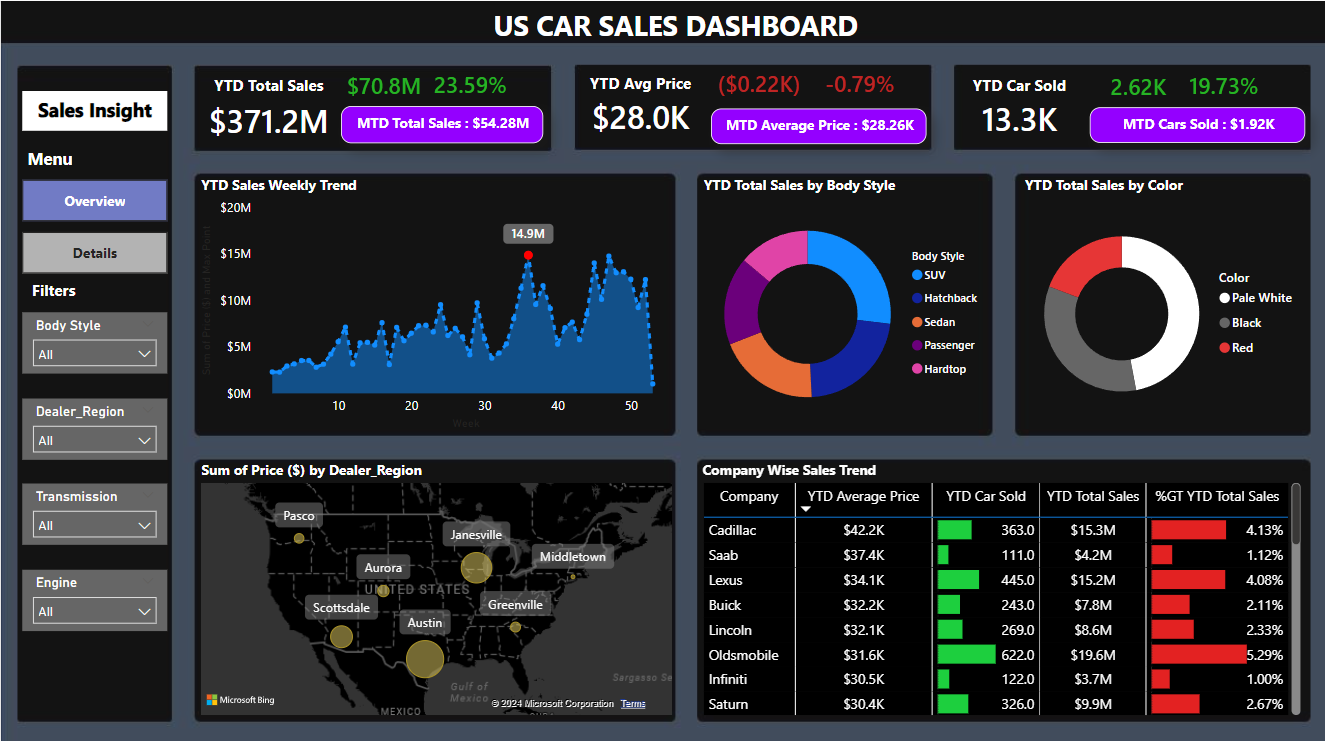

The page's visual inventory and layout, read from the dashboard file:
{"tool":"powerbi","page":{"name":"Overview","canvas":[1280,720],"ordinal":0},"visuals":[{"type":"card","title":"YTD Total Sales","fields":{"Values":["car_data.YTD Total Sales"]},"box":[188.1,71.4,140.5,70.2],"z":0},{"type":"card","fields":{"Values":["car_data.Sales Difference"]},"box":[328.6,69,83.3,29.8],"z":1000},{"type":"card","fields":{"Values":["car_data.YOY Sales Growth"]},"box":[411.9,67.9,83.3,29.8],"z":2000},{"type":"card","fields":{"Values":["car_data.MTD KPI"]},"box":[328.6,101.2,195.2,35.7],"z":3000},{"type":"card","title":"YTD Avg Price","fields":{"Values":["car_data.YTD Average Price"]},"box":[548.8,69,136.9,67.9],"z":4000},{"type":"card","fields":{"Values":["car_data.Average Price Difference"]},"box":[685.7,66.7,92.9,31],"z":5000},{"type":"card","fields":{"Values":["car_data.MTD Average Price KPI"]},"box":[685.7,103.6,208.3,34.5],"z":6000},{"type":"card","fields":{"Values":["car_data.YOY Average Price Growth"]},"box":[790.5,66.7,77.4,29.8],"z":7000},{"type":"card","title":"YTD Car Sold","fields":{"Values":["car_data.YTD Car Sold"]},"box":[914.3,71.4,136.9,66.7],"z":8000},{"type":"card","fields":{"Values":["car_data.Car Sold Difference"]},"box":[1051.8,68.9,91.9,30.2],"z":9000},{"type":"card","fields":{"Values":["car_data.MTD Cars Sold KPI"]},"box":[1051.2,102.4,208.3,34.5],"z":10000},{"type":"card","fields":{"Values":["car_data.YOY Car Sold Growth"]},"box":[1134.5,69,92.9,29.8],"z":11000},{"type":"lineChart","title":"YTD Sales Weekly Trend","fields":{"Category":["calendar.Week"],"Y":["Sum(car_data.Price ($))","car_data.Max Point"]},"box":[187.9,167.3,463.1,251],"z":12000},{"type":"donutChart","fields":{"Category":["car_data.Body Style"],"Y":["car_data.YTD Total Sales"]},"box":[673,167.2,282.9,251.5],"z":13000},{"type":"donutChart","fields":{"Category":["car_data.Color"],"Y":["car_data.YTD Total Sales"]},"box":[983.1,167.2,277.2,251.5],"z":14000},{"type":"map","fields":{"Category":["car_data.Dealer_Region"],"Size":["Sum(car_data.Price ($))"]},"box":[188,443.2,463.8,251.1],"z":15000},{"type":"tableEx","title":"Company Wise Sales Trend","fields":{"Values":["car_data.Company","car_data.YTD Average Price","car_data.YTD Car Sold","car_data.YTD Total Sales1","car_data.YTD Total Sales"]},"box":[672.4,443.2,587.3,251.1],"z":16000},{"type":"slicer","fields":{"Values":["car_data.Body Style"]},"box":[20.6,300.5,140,59],"z":17000},{"type":"slicer","fields":{"Values":["car_data.Dealer_Region"]},"box":[20.6,384.2,140,59],"z":18000},{"type":"slicer","fields":{"Values":["car_data.Transmission"]},"box":[20.6,465.2,140,59],"z":19000},{"type":"slicer","fields":{"Values":["car_data.Engine"]},"box":[20.6,548.9,140,59],"z":20000},{"type":"textbox","box":[20.2,264.3,60.7,35.7],"z":21000},{"type":"textbox","box":[312.9,0,679.2,52.1],"z":22000},{"type":"textbox","box":[20.6,87,140.2,38.7],"z":23000},{"type":"textbox","box":[20.6,136.6,70.1,36.3],"z":24000},{"type":"pageNavigator","box":[20.6,172.9,140.2,91.9],"z":25000}]}

Visuals, with their boxes in screenshot pixels (x1, y1, x2, y2), scaled from the page's 1280x720 canvas onto the 1325x741 screenshot:
"YTD Total Sales" card: (left=195, top=73, right=340, bottom=146)
card - car_data.Sales Difference: (left=340, top=71, right=426, bottom=102)
card - car_data.YOY Sales Growth: (left=426, top=70, right=513, bottom=101)
card - car_data.MTD KPI: (left=340, top=104, right=542, bottom=141)
"YTD Avg Price" card: (left=568, top=71, right=710, bottom=141)
card - car_data.Average Price Difference: (left=710, top=69, right=806, bottom=101)
card - car_data.MTD Average Price KPI: (left=710, top=107, right=925, bottom=142)
card - car_data.YOY Average Price Growth: (left=818, top=69, right=898, bottom=99)
"YTD Car Sold" card: (left=946, top=73, right=1088, bottom=142)
card - car_data.Car Sold Difference: (left=1089, top=71, right=1184, bottom=102)
card - car_data.MTD Cars Sold KPI: (left=1088, top=105, right=1304, bottom=141)
card - car_data.YOY Car Sold Growth: (left=1174, top=71, right=1271, bottom=102)
"YTD Sales Weekly Trend" lineChart: (left=195, top=172, right=674, bottom=431)
donutChart - car_data.Body Style x car_data.YTD Total Sales: (left=697, top=172, right=990, bottom=431)
donutChart - car_data.Color x car_data.YTD Total Sales: (left=1018, top=172, right=1305, bottom=431)
map - car_data.Dealer_Region x Sum(car_data.Price ($)): (left=195, top=456, right=675, bottom=715)
"Company Wise Sales Trend" tableEx: (left=696, top=456, right=1304, bottom=715)
slicer - car_data.Body Style: (left=21, top=309, right=166, bottom=370)
slicer - car_data.Dealer_Region: (left=21, top=395, right=166, bottom=456)
slicer - car_data.Transmission: (left=21, top=479, right=166, bottom=539)
slicer - car_data.Engine: (left=21, top=565, right=166, bottom=626)
textbox: (left=21, top=272, right=84, bottom=309)
textbox: (left=324, top=0, right=1027, bottom=54)
textbox: (left=21, top=90, right=166, bottom=129)
textbox: (left=21, top=141, right=94, bottom=178)
pageNavigator: (left=21, top=178, right=166, bottom=273)
